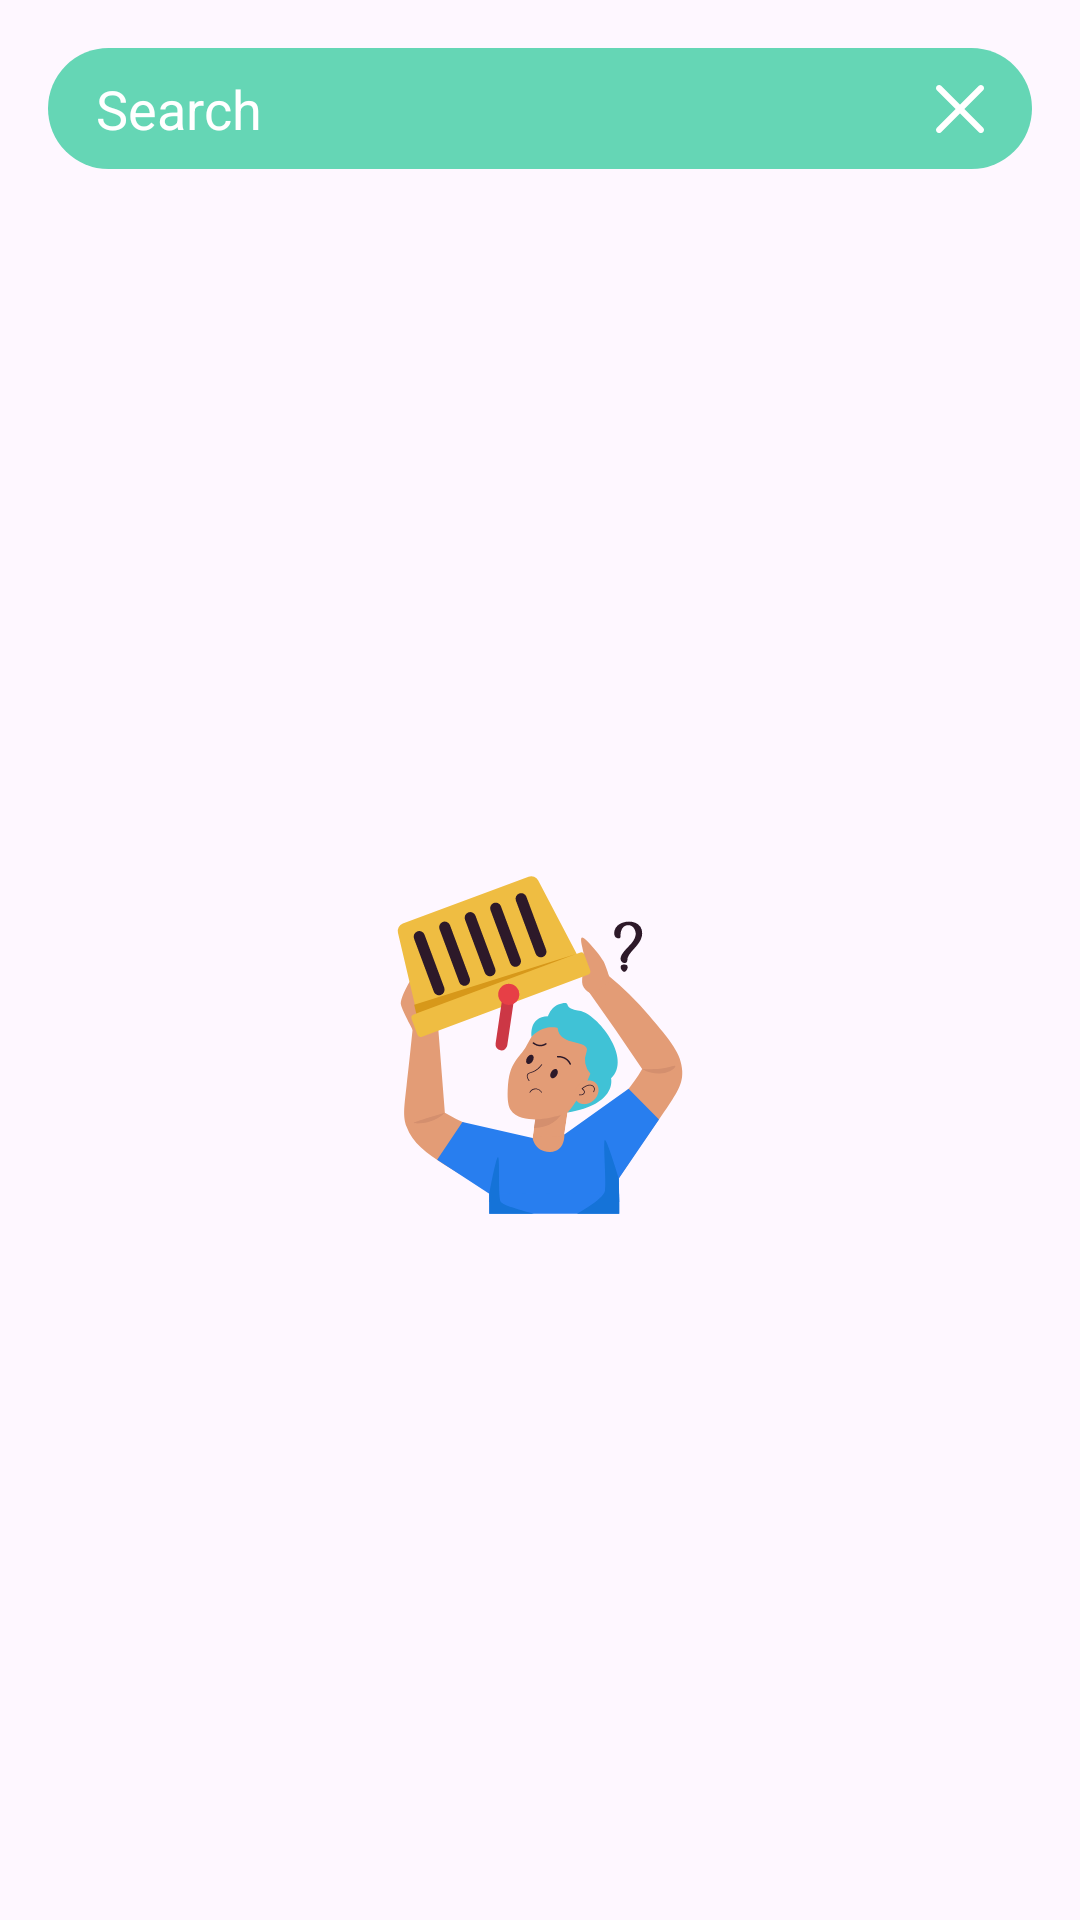

Screen size 1080×1920. Icon name, then its box in pixels as {"left": x1, "top": y1, "right": x2, "bottom": y2}:
empty: {"left": 397, "top": 876, "right": 683, "bottom": 1214}
